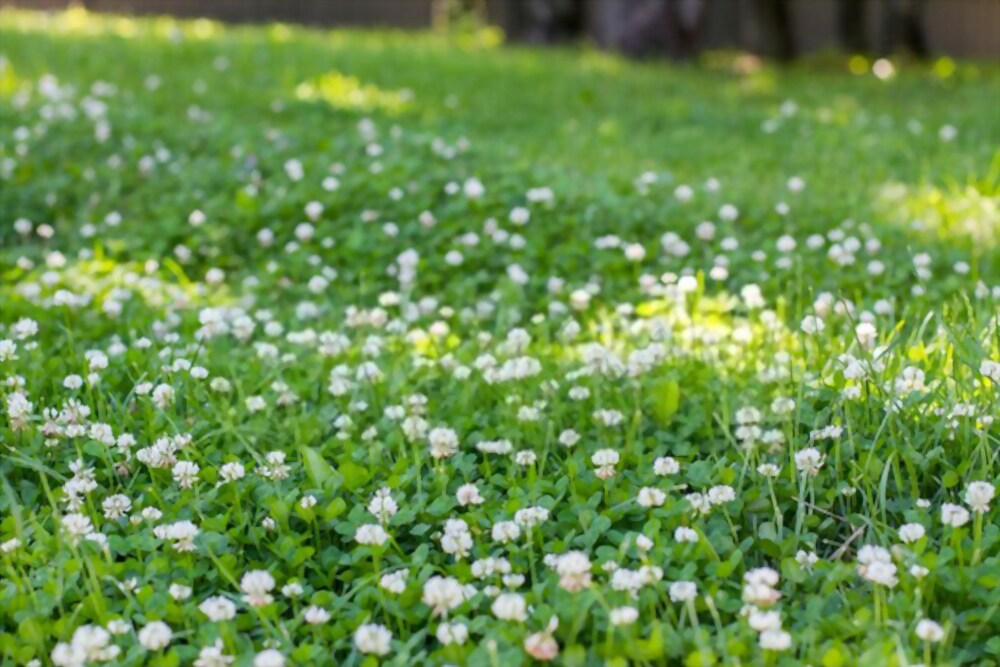clover: (3, 193, 987, 656)
